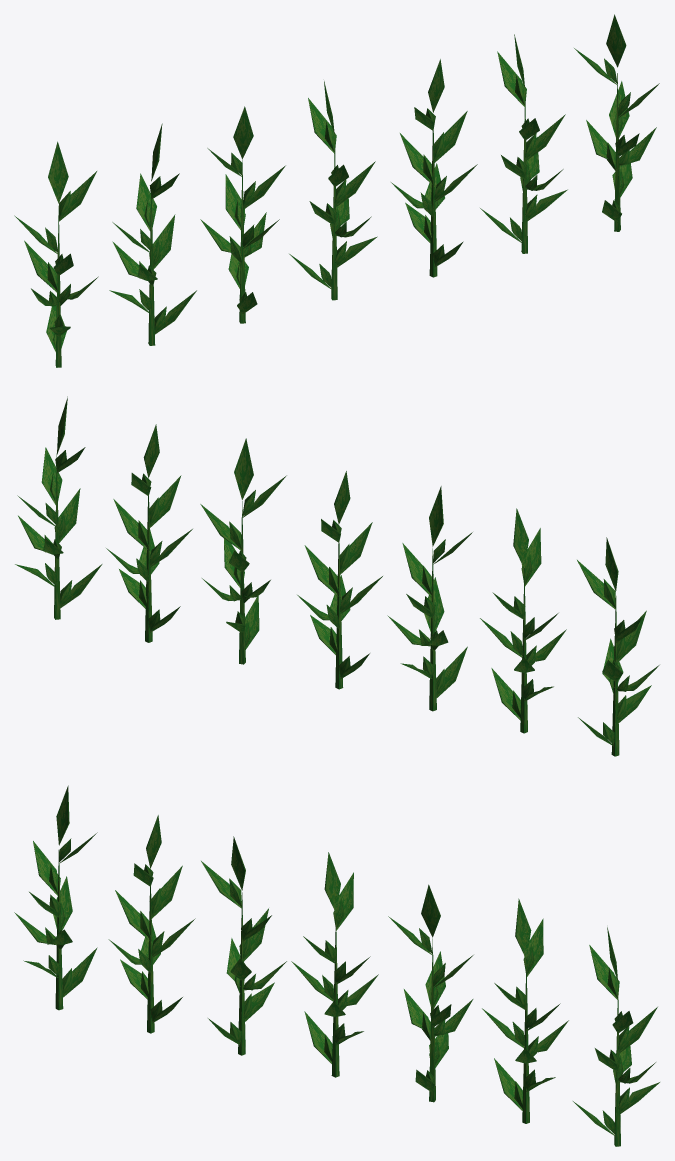
File: Corn_WetField_SingleRow.fbx
3 views of the same model, one above another, from view 1: azimuth 30°, elevation 25°; view 2: azimuth 150°, elevation 25°; view 3: azimuth 330°, elevation 25° (orthographic).
Visible parts, largest first — view 1: HeatField_Corn; view 2: HeatField_Corn; view 3: HeatField_Corn.
Part boxes in pixels (x1,y1,x2,y2): HeatField_Corn: (14,14,659,367); HeatField_Corn: (15,396,659,756); HeatField_Corn: (14,785,659,1146).
Bounding box in the file's own units: 1034 × 344 × 132.
